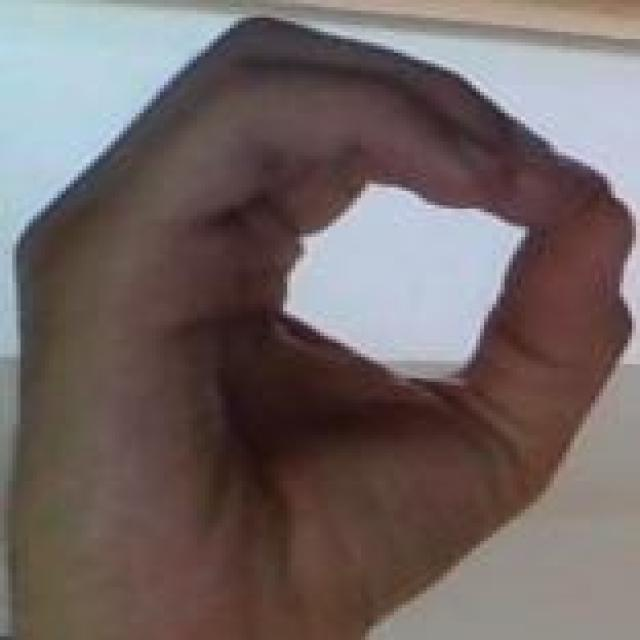O: (0, 2, 640, 622)
